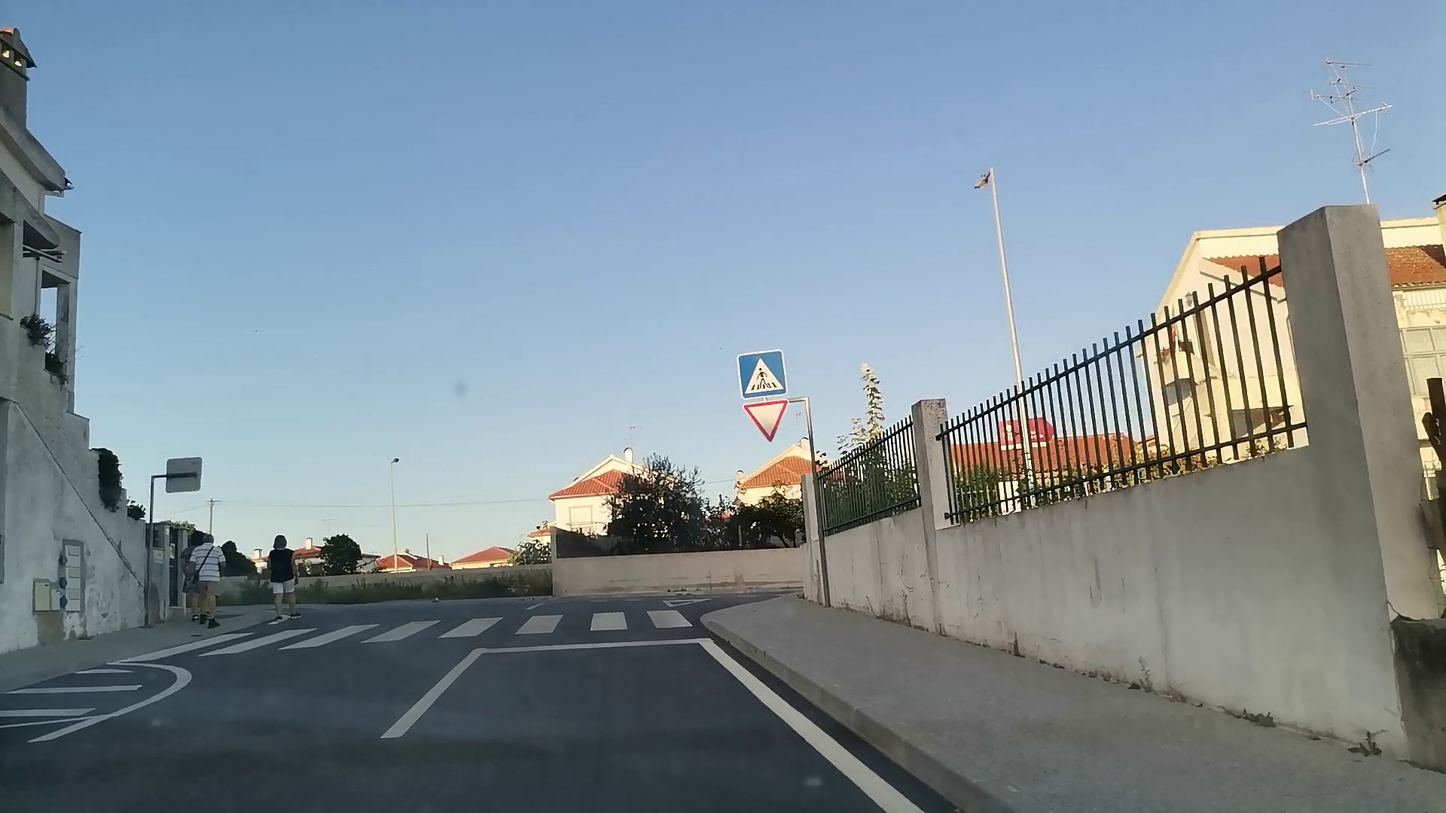Stairs: (197, 608, 700, 656)
